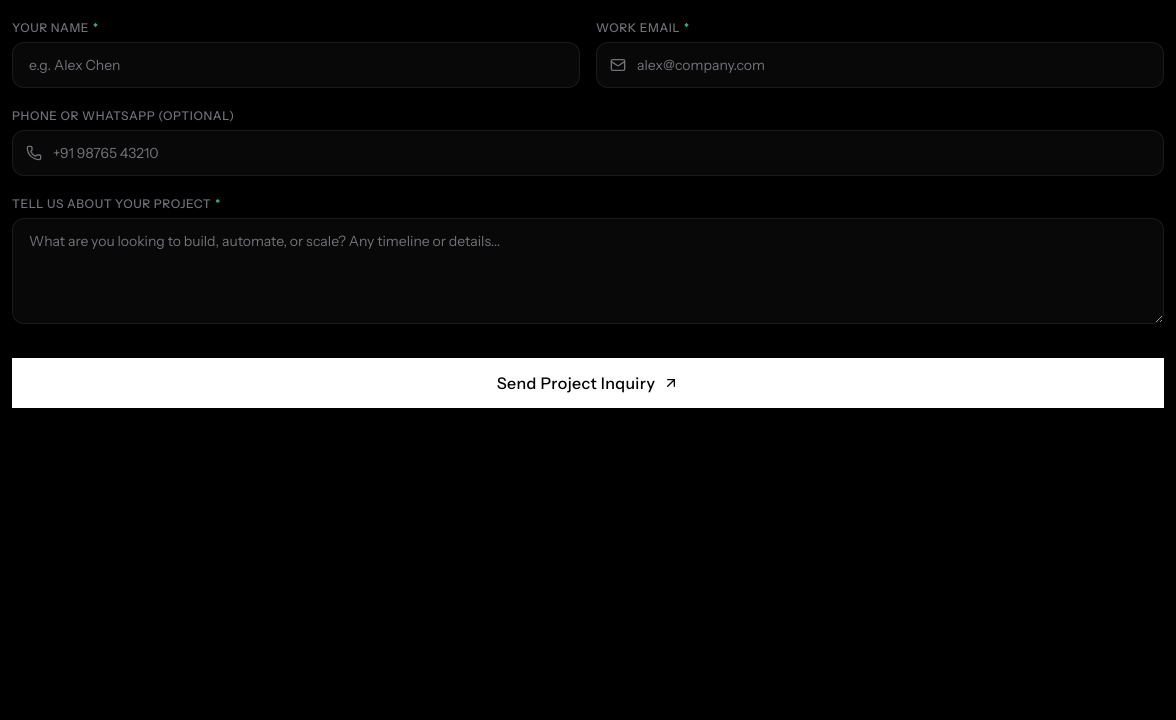
Test: ContactForm Component › shows client-side validation error banner when submitted empty
Click the button "Send Project Inquiry" at [588, 383], box top-left (12, 358), bottom-right (1164, 408)
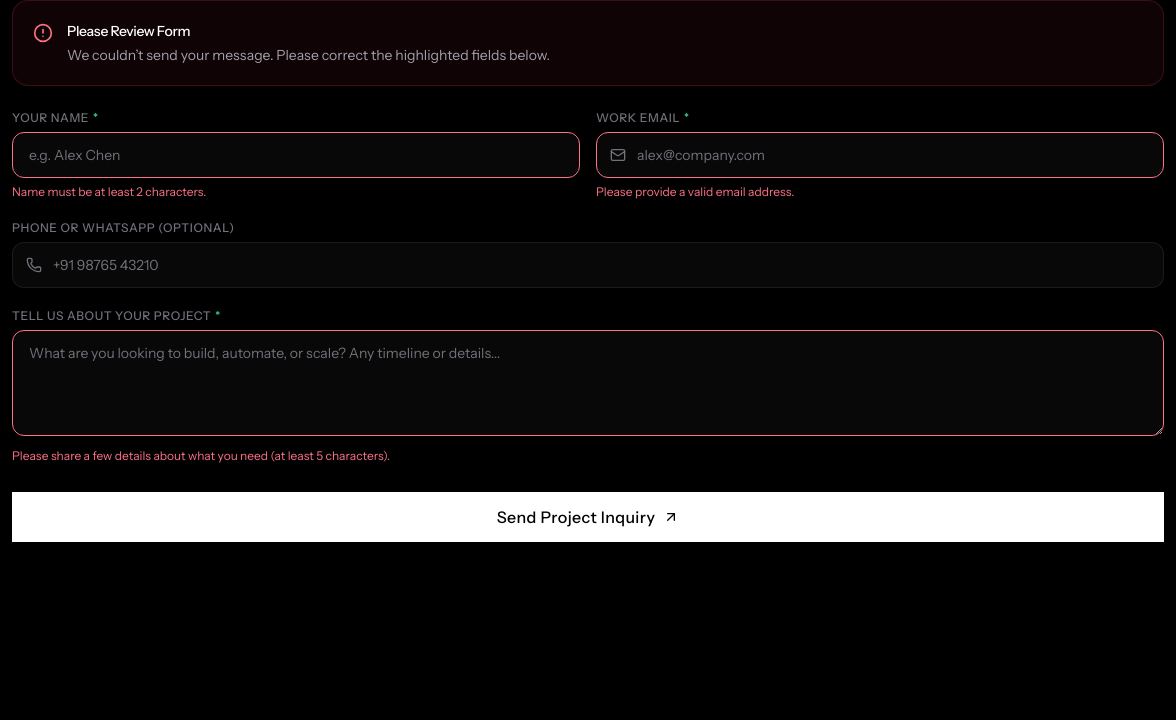
Check: the message is shown, box top-left (12, 0), bottom-right (1164, 86)
Check: the text "We couldn’t send your message" is shown, box top-left (67, 46), bottom-right (550, 64)
